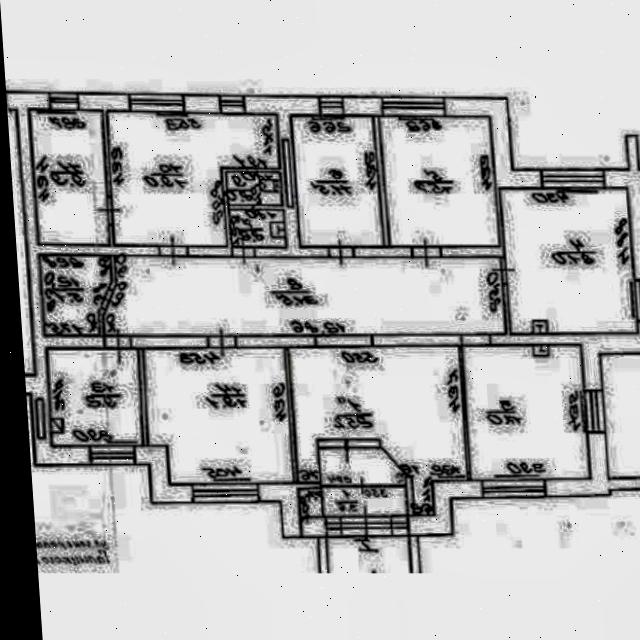room: (290, 338, 469, 524), (104, 256, 506, 334), (107, 112, 280, 247), (502, 181, 636, 342), (144, 348, 293, 484), (463, 338, 589, 485), (382, 110, 498, 252), (291, 112, 382, 252), (31, 107, 109, 249), (46, 344, 144, 452), (40, 256, 110, 335), (319, 449, 406, 485), (324, 487, 407, 515), (231, 210, 286, 246), (227, 173, 282, 205)
